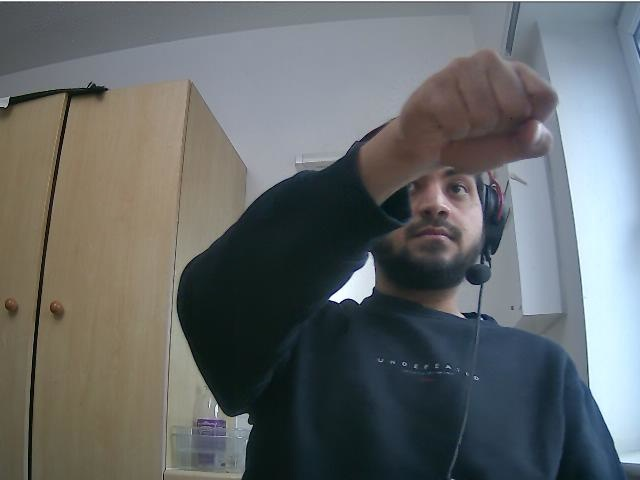hold: (402, 46, 559, 168)
